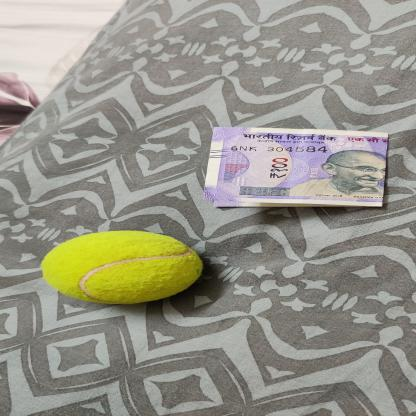New100Front: (204, 127, 390, 208)
